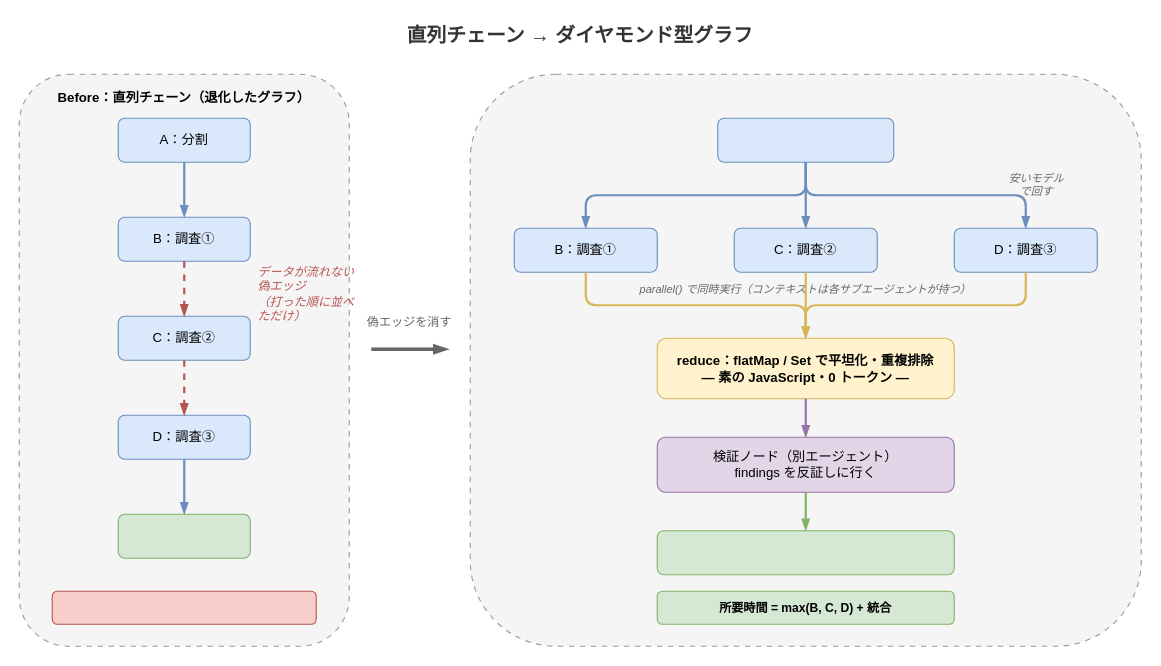
The diagram is 1161 pixels wide and 666 high, and some of its shapes have lost their labels. Here are the shapes that lost their labels. From the top down, the box of each, then its label:
(717, 117, 894, 162): A：分割ノード
(469, 73, 1141, 646): After：ダイヤモンド（fan out → reduce → 統合）
(117, 513, 250, 558): E：統合
(656, 530, 954, 575): E：統合ノード（高性能モデル）
(51, 590, 316, 624): 所要時間 = B + C + D の合計
